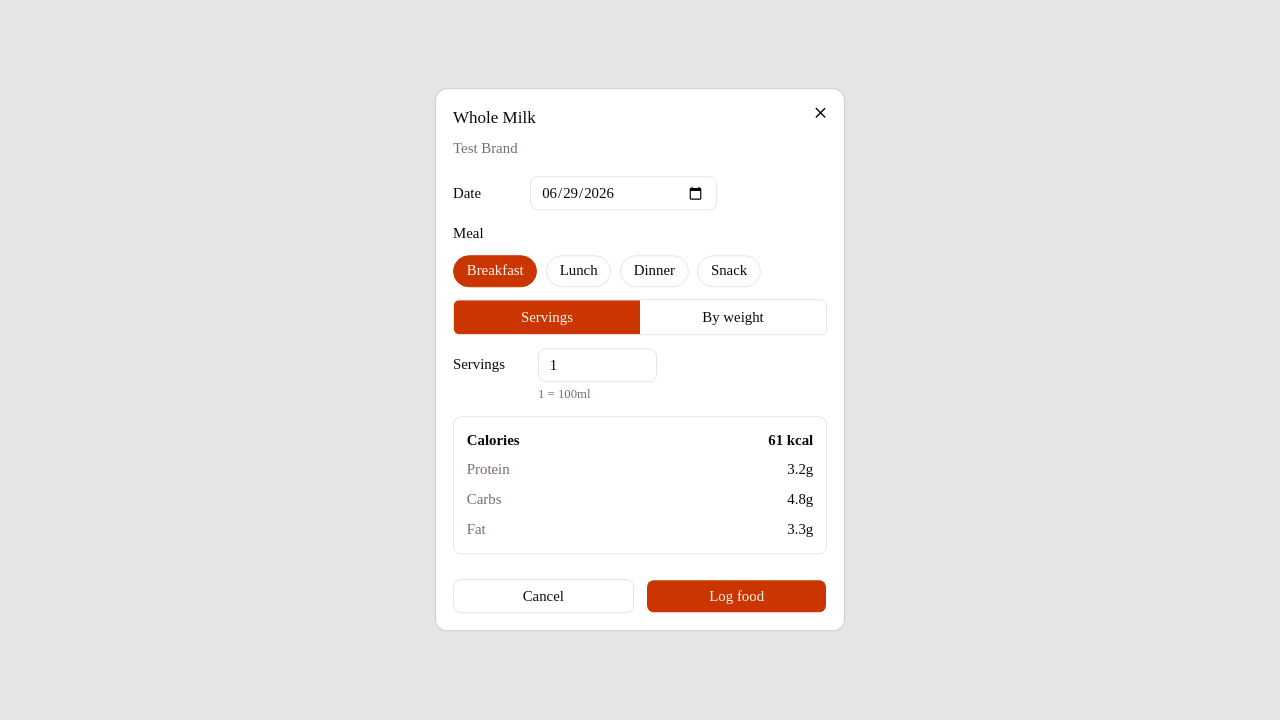
ServingSelector › updates macro preview when quantity changes
Replace the text in the number field with "2": {"x": 598, "y": 365} [538,348,657,382]
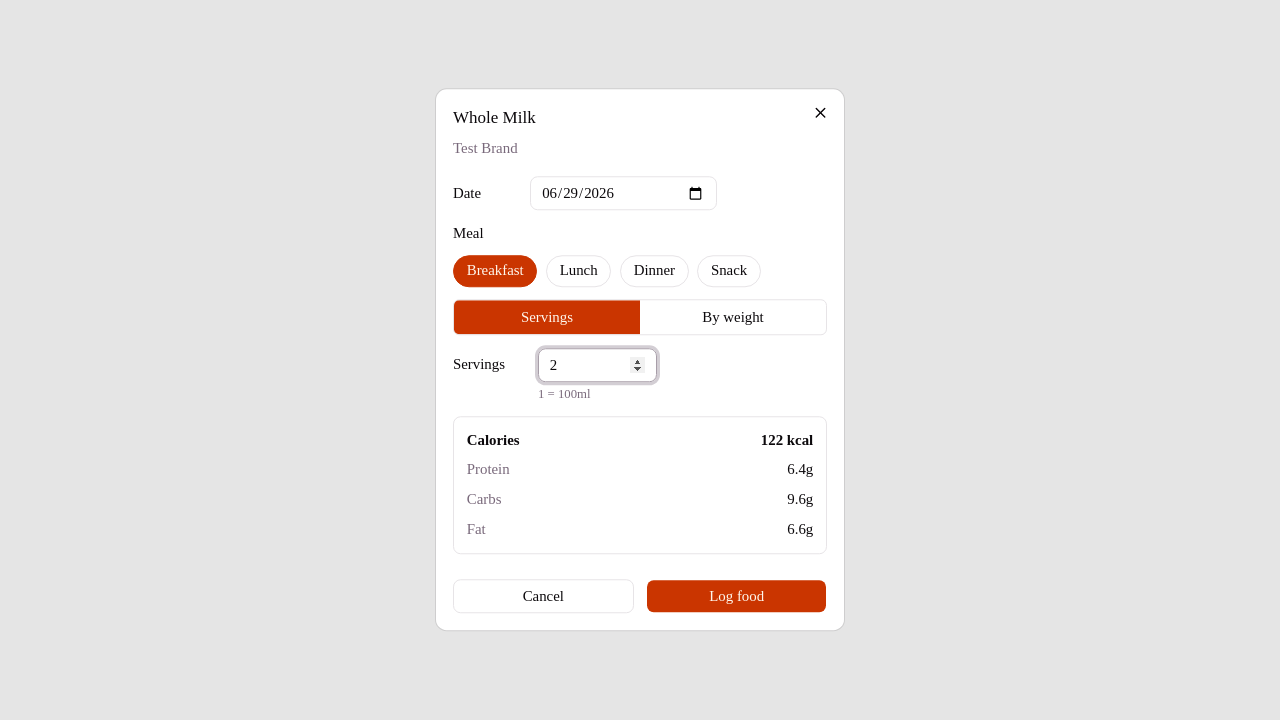
Expected: the text "122 kcal" is shown, [761,430,813,451]
Expected: the text "6.4g" is shown, [787,460,813,481]
